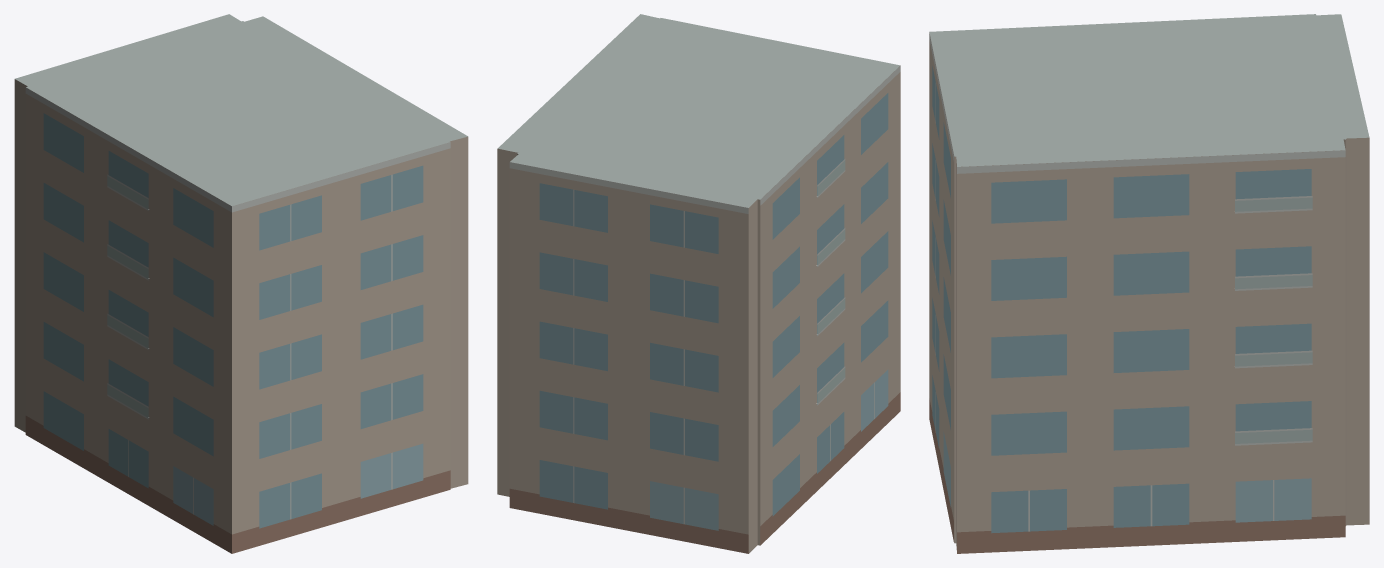
File: survey-upis-32663444.glb
3 views of the same model, side by side, from view 1: azimuth 30°, elevation 25°; view 2: azimuth 150°, elevation 25°; view 3: azimuth 270°, elevation 25° (orthographic). The views are drawn at different scales.
Parts seen in each view (by area): view 1: survey-upis-32663444.tmp; view 2: survey-upis-32663444.tmp; view 3: survey-upis-32663444.tmp.
Boxes of the visible parts, x1,y1,x2,y2 form: survey-upis-32663444.tmp: (14,14,468,553); survey-upis-32663444.tmp: (497,14,900,553); survey-upis-32663444.tmp: (929,14,1369,553).
Size of the model in its own units: 11.58 by 13.65 by 14.09.
